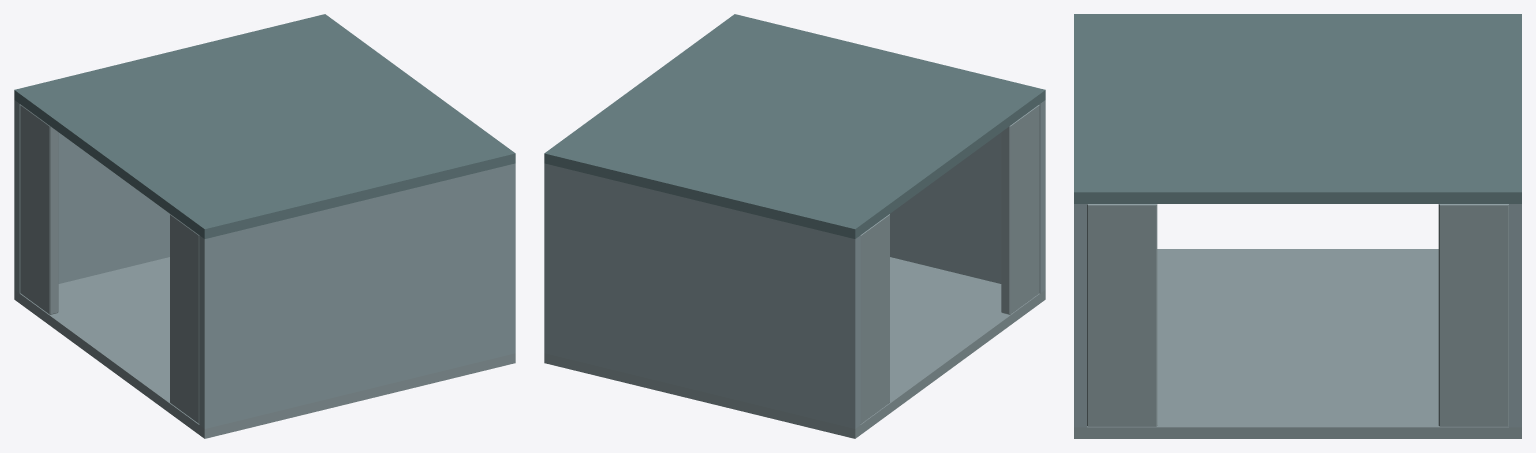
The model's file is Systems-VentPassingBay.fbx.
3 views of the same model, side by side, from view 1: azimuth 30°, elevation 25°; view 2: azimuth 150°, elevation 25°; view 3: azimuth 270°, elevation 25° (orthographic). The views are drawn at different scales.
Visible parts, largest first — view 1: Removable Roof Panel, Left Wall, Continuous Floor, Right Wall, Portal Return.001, Portal Return; view 2: Removable Roof Panel, Right Wall, Continuous Floor, Left Wall, Portal Return, Portal Return.001; view 3: Removable Roof Panel, Continuous Floor, Portal Return.002, Portal Return.003, Left Wall, Right Wall.
Boxes of the visible parts, box(x1,y1,x2,y2) form: Removable Roof Panel: box(14, 14, 515, 238); Left Wall: box(199, 163, 515, 428); Continuous Floor: box(14, 257, 515, 438); Right Wall: box(14, 100, 169, 293); Portal Return.001: box(20, 104, 58, 314); Portal Return: box(170, 214, 199, 423); Removable Roof Panel: box(544, 14, 1045, 238); Right Wall: box(544, 163, 860, 428); Continuous Floor: box(544, 257, 1045, 438); Left Wall: box(890, 100, 1045, 293); Portal Return: box(1001, 104, 1039, 314); Portal Return.001: box(860, 214, 889, 423); Removable Roof Panel: box(1074, 14, 1521, 203); Continuous Floor: box(1074, 249, 1521, 438); Portal Return.002: box(1087, 204, 1157, 426); Portal Return.003: box(1438, 204, 1508, 426); Left Wall: box(1074, 204, 1086, 427); Right Wall: box(1509, 204, 1521, 427).
Size of the model in its own units: 1.8 by 1.16 by 1.91.
